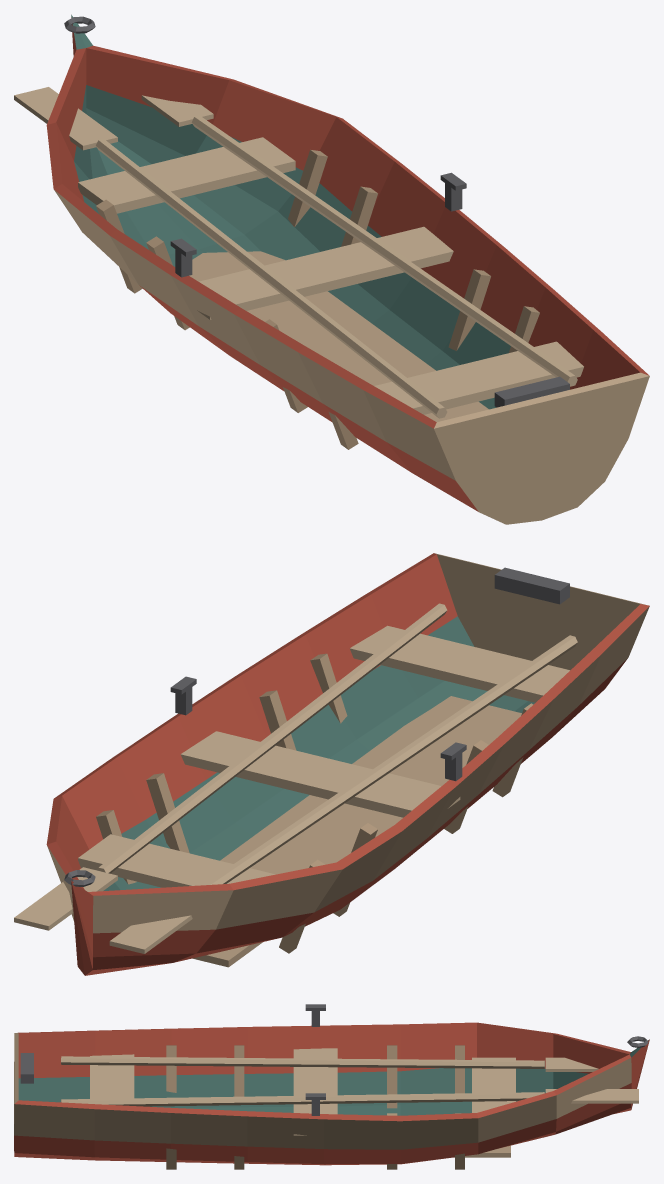
The model's file is SM_Lake_Rowboat.glb.
3 views of the same model, one above another, from view 1: azimuth 30°, elevation 25°; view 2: azimuth 150°, elevation 25°; view 3: azimuth 270°, elevation 25° (orthographic). The views are drawn at different scales.
Visible parts, largest first — view 1: SM_Lake_Rowboat_Hull, SM_Lake_Rowboat_Fittings; view 2: SM_Lake_Rowboat_Hull, SM_Lake_Rowboat_Fittings; view 3: SM_Lake_Rowboat_Hull, SM_Lake_Rowboat_Fittings.
Boxes of the visible parts, x1,y1,x2,y2 form: SM_Lake_Rowboat_Hull: (46,14,649,524); SM_Lake_Rowboat_Fittings: (14,16,583,449); SM_Lake_Rowboat_Hull: (46,553,649,975); SM_Lake_Rowboat_Fittings: (14,567,577,967); SM_Lake_Rowboat_Hull: (14,1022,649,1165); SM_Lake_Rowboat_Fittings: (20,1004,648,1169).
Size of the model in its own units: 1.35 by 0.74 by 3.75.
